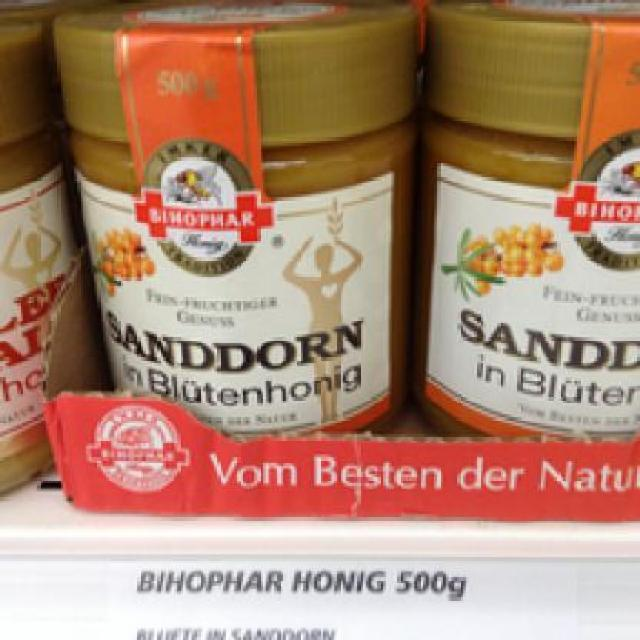Honey: (54, 9, 417, 440), (428, 0, 638, 469)
